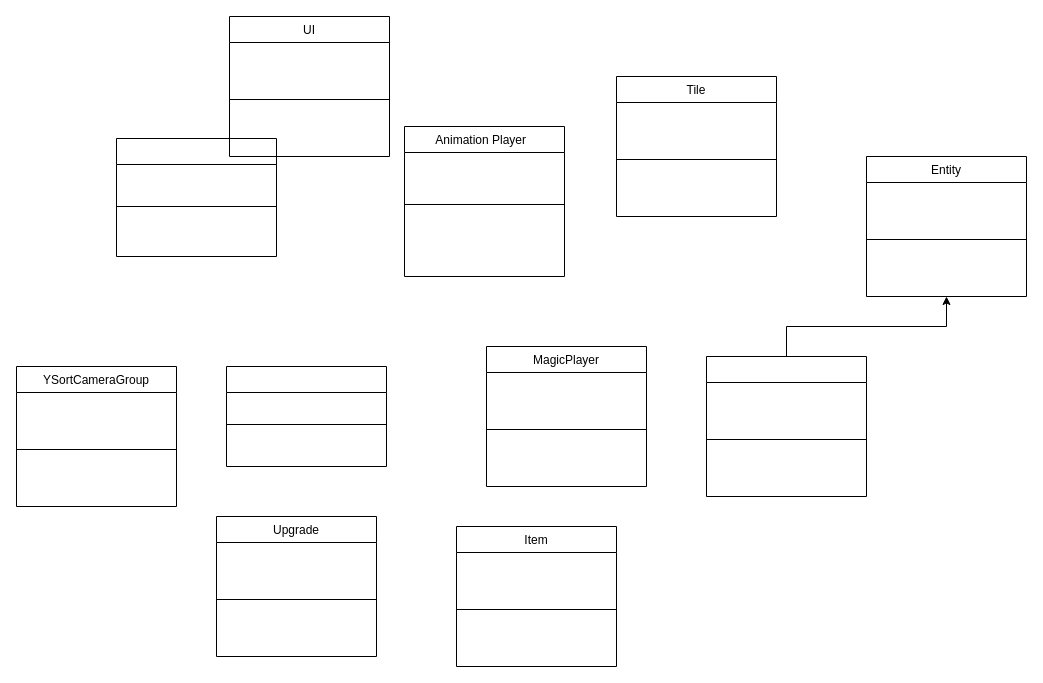
Some shapes in this 1043 by 683 pixel diagram are drawn without their labels. The shapes that lost their labels are listed below. From the top down, each one's box as (x1, y1, x2, y2) in pixels, then its label:
(116, 138, 276, 256): ParticleEffect
(226, 366, 386, 466): Level
(706, 356, 866, 496): Player
